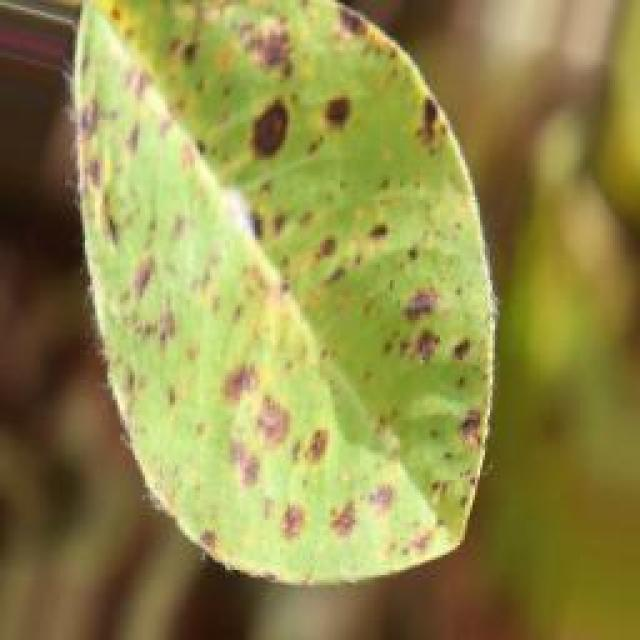Yellowish: (28, 0, 518, 573)
